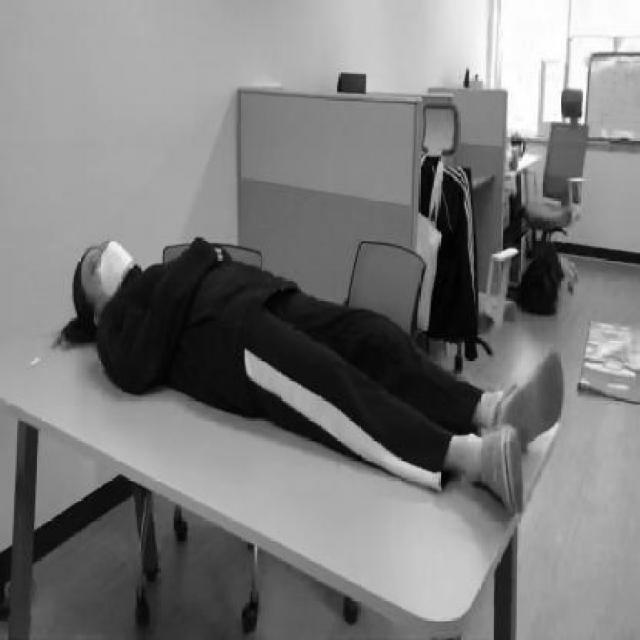person: (60, 230, 565, 510)
